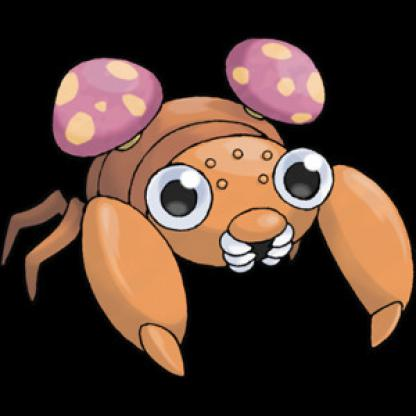Paras: (22, 28, 412, 368)
